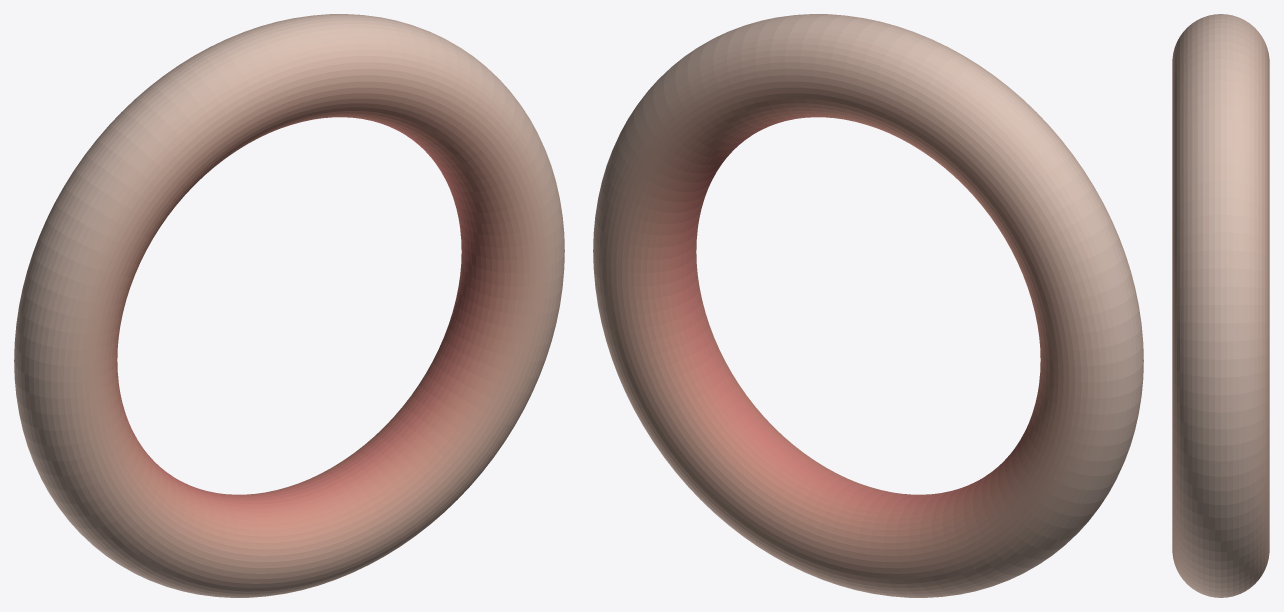
3 renders of one model, left to right at view 1: azimuth 30°, elevation 25°; view 2: azimuth 150°, elevation 25°; view 3: azimuth 270°, elevation 25°, orthographic. The views are drawn at different scales.
Parts seen in each view (by area): view 1: world; view 2: world; view 3: world.
Boxes of the visible parts, left/top/right/bottom form: world: left=14, top=14, right=564, bottom=597; world: left=593, top=14, right=1143, bottom=597; world: left=1172, top=14, right=1269, bottom=597.
Size of the model in its own units: 32.8 by 32.8 by 5.46.
